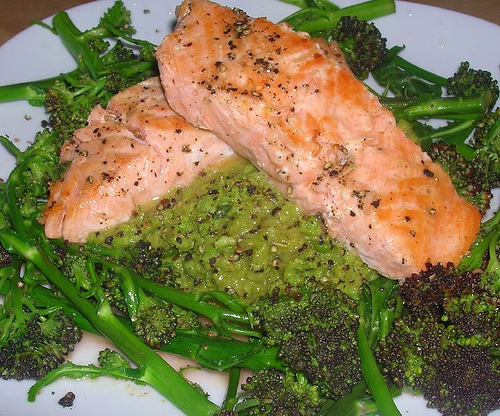broccoli: (373, 264, 498, 414), (263, 287, 367, 393), (2, 308, 83, 379), (330, 12, 386, 83)
